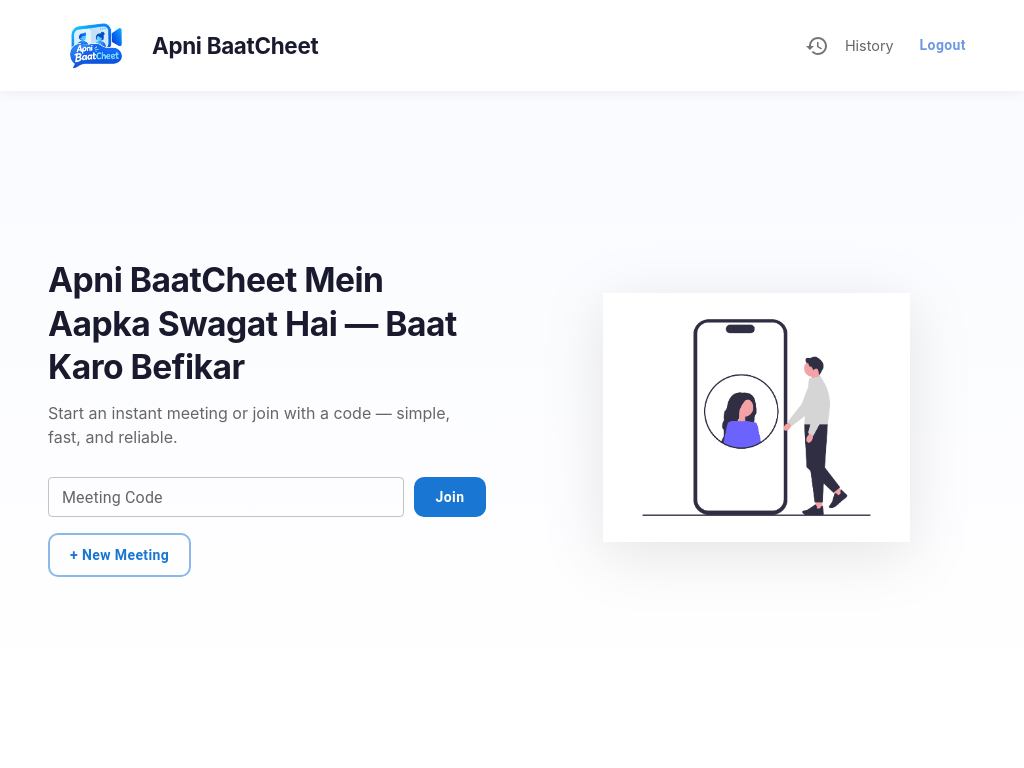
Test: HomeComponent › should show error when Join is clicked with empty code
Click the button "Join": [450, 497] box [414,477,486,517]
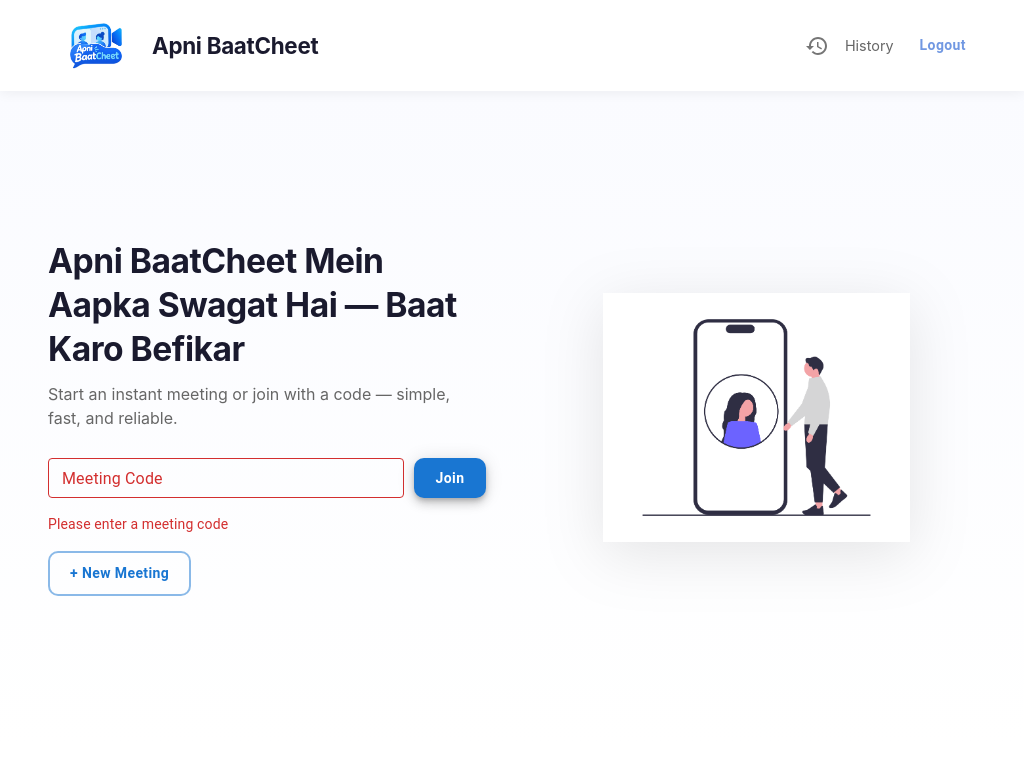
Expected: the text "Please enter a meeting code" is shown, [48,516,228,532]
